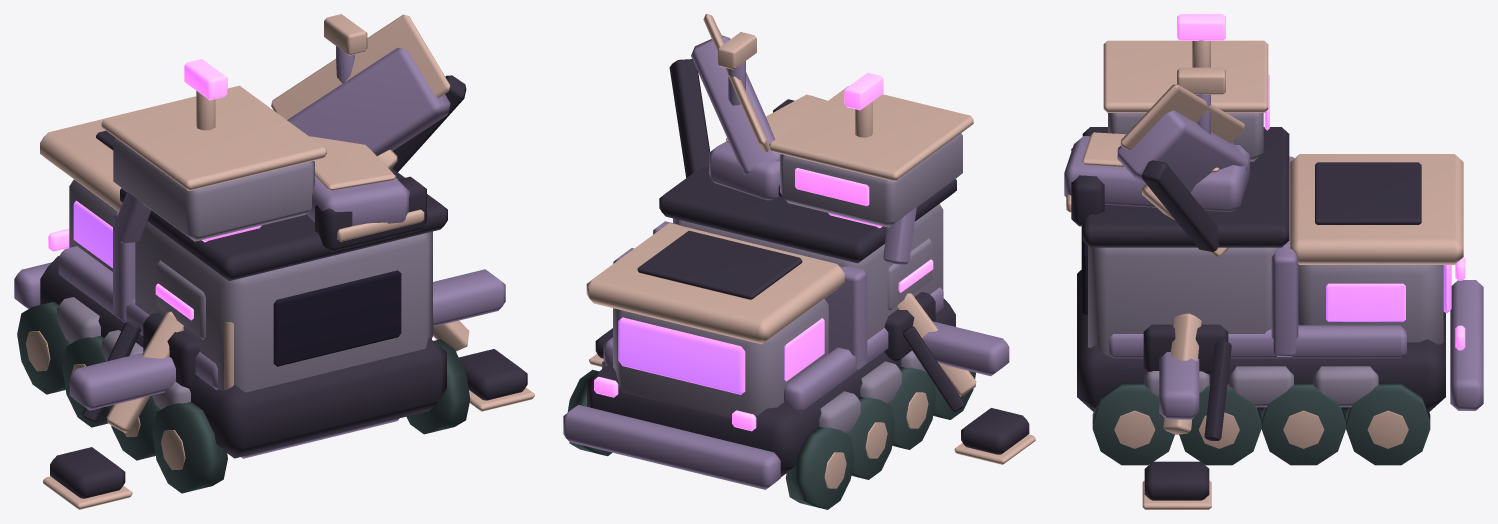
The model's file is vesper-mcv.glb.
The picture shows the model from 3 angles, left to right: view 1: azimuth 30°, elevation 25°; view 2: azimuth 150°, elevation 25°; view 3: azimuth 270°, elevation 25°; orthographic projection. The views are drawn at different scales.
Visible parts, largest first — view 1: Mobile rig lower chassis, Wheel train armor segment, Wheel hub trim, Armored belly skid, Rear service recess, Run-flat wheel, Run-flat wheel.003, Run-flat wheel.004, Cab marker lamp, Panoramic cab windshield, Run-flat wheel.002, Run-flat wheel.001; view 2: Mobile rig lower chassis, Wheel hub trim, Armored belly skid, Wheel train armor segment, Panoramic cab windshield, Cab marker lamp, Run-flat wheel.003, Run-flat wheel.002, Run-flat wheel.001, Run-flat wheel.007, Run-flat wheel; view 3: Mobile rig lower chassis, Wheel hub trim, Wheel train armor segment, Armored belly skid, Run-flat wheel.007, Run-flat wheel.006, Run-flat wheel.004, Panoramic cab windshield, Run-flat wheel.005, Cab marker lamp, Rear service recess.
Part boxes in pixels (left/top/right/bottom): Mobile rig lower chassis: left=40, top=75, right=527, bottom=498; Wheel train armor segment: left=57, top=137, right=432, bottom=409; Wheel hub trim: left=26, top=14, right=534, bottom=509; Armored belly skid: left=14, top=46, right=505, bottom=458; Rear service recess: left=273, top=270, right=401, bottom=366; Run-flat wheel: left=152, top=401, right=227, bottom=493; Run-flat wheel.003: left=17, top=301, right=70, bottom=394; Run-flat wheel.004: left=406, top=339, right=470, bottom=434; Cab marker lamp: left=48, top=59, right=261, bottom=320; Panoramic cab windshield: left=73, top=200, right=112, bottom=268; Run-flat wheel.002: left=62, top=336, right=108, bottom=427; Run-flat wheel.001: left=108, top=395, right=160, bottom=460; Mobile rig lower chassis: left=587, top=59, right=1029, bottom=477; Wheel hub trim: left=586, top=14, right=1035, bottom=488; Armored belly skid: left=563, top=35, right=1009, bottom=489; Wheel train armor segment: left=602, top=133, right=962, bottom=433; Panoramic cab windshield: left=618, top=317, right=824, bottom=394; Cab marker lamp: left=594, top=72, right=933, bottom=431; Run-flat wheel.003: left=785, top=426, right=854, bottom=509; Run-flat wheel.002: left=847, top=396, right=895, bottom=479; Run-flat wheel.001: left=888, top=366, right=936, bottom=449; Run-flat wheel.007: left=567, top=369, right=612, bottom=456; Run-flat wheel: left=933, top=371, right=975, bottom=419; Mobile rig lower chassis: left=1071, top=127, right=1445, bottom=500; Wheel hub trim: left=1066, top=40, right=1463, bottom=509; Wheel train armor segment: left=1088, top=113, right=1443, bottom=407; Armored belly skid: left=1064, top=94, right=1483, bottom=419; Run-flat wheel.007: left=1346, top=382, right=1430, bottom=465; Run-flat wheel.006: left=1261, top=382, right=1345, bottom=465; Run-flat wheel.004: left=1092, top=382, right=1174, bottom=465; Panoramic cab windshield: left=1326, top=265, right=1451, bottom=321; Run-flat wheel.005: left=1179, top=382, right=1261, bottom=465; Cab marker lamp: left=1177, top=14, right=1465, bottom=350; Rear service recess: left=1081, top=226, right=1087, bottom=315.
Bounding box in the file's own units: 2.23 × 1.86 × 1.89.
